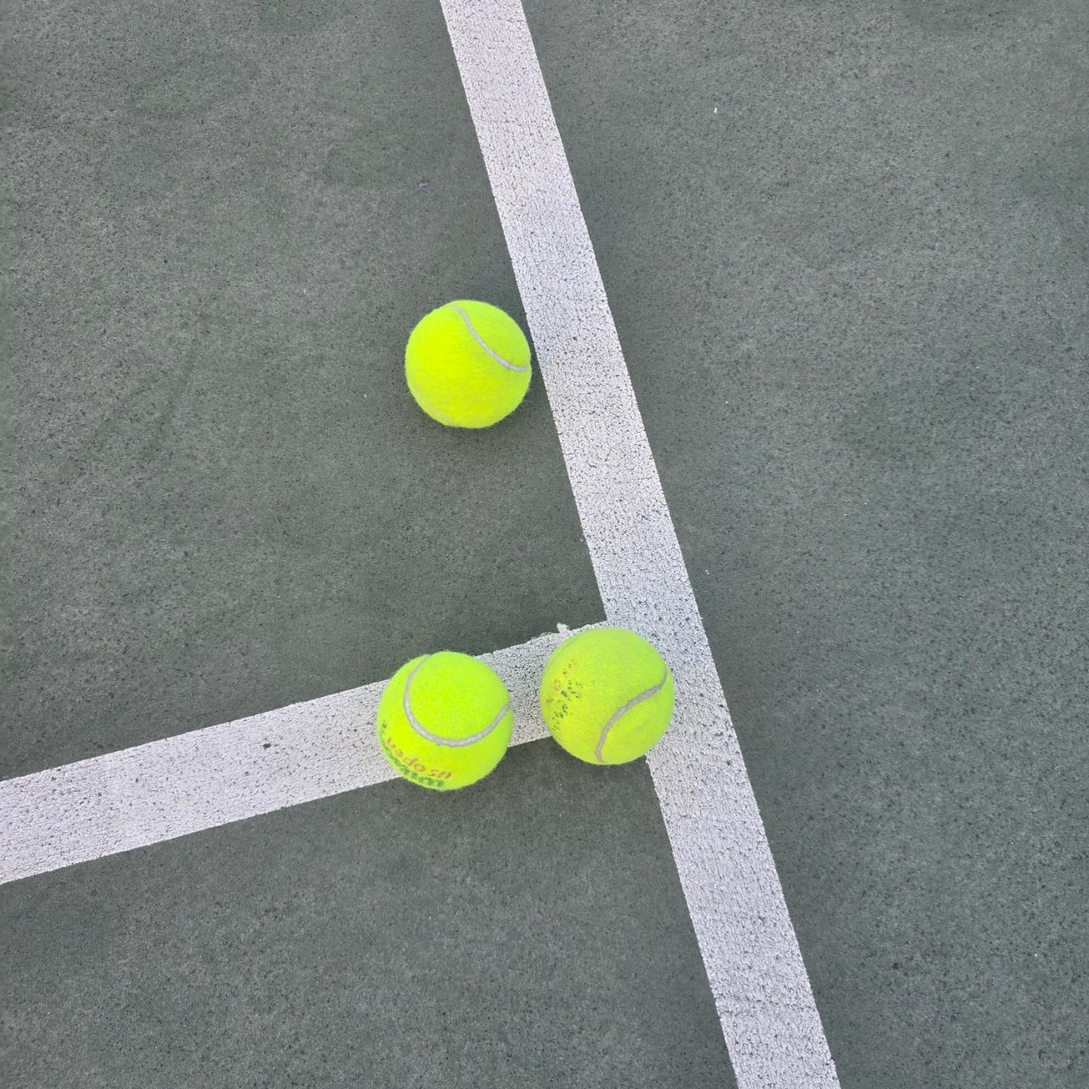tennis-ball: (373, 647, 515, 792), (538, 624, 676, 767), (401, 294, 533, 430)
